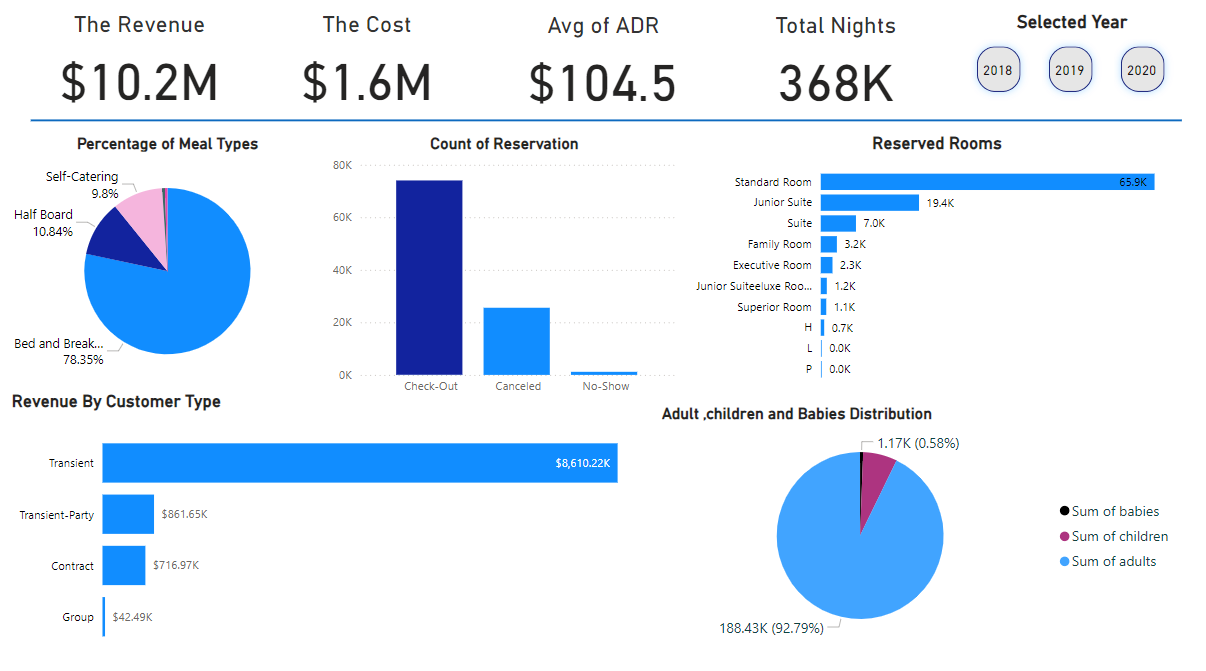

The dashboard page shown, as its layout file describes it:
{"tool":"powerbi","page":{"name":"Page 1","canvas":[1280,720],"ordinal":0},"visuals":[{"type":"card","title":"The Revenue","fields":{"Values":["Sum(Hotel.Revenue)"]},"box":[35.6,21.1,229.6,109.5],"z":0},{"type":"pieChart","title":"Percentage of Meal Types","fields":{"Category":["Hotel.meal2"],"Y":["CountNonNull(Hotel.meal2)"]},"box":[10.6,150.4,339.1,271.8],"z":1000},{"type":"barChart","title":"Revenue By Customer Type","fields":{"Category":["Hotel.customer_type"],"Y":["Sum(Hotel.Revenue)"]},"box":[10.6,422.3,711.3,287.7],"z":2000},{"type":"pieChart","title":"Adult ,children and Babies Distribution ","fields":{"Y":["Sum(Hotel.babies)","Sum(Hotel.children)","Sum(Hotel.adults)"]},"box":[696.7,435.5,554.2,260],"z":3000},{"type":"barChart","title":"Reserved Rooms","fields":{"Y":["CountNonNull(Hotel.reserved_room_type)"],"Category":["Hotel.reserved_room_type"]},"box":[721.8,150.4,541,271.8],"z":4000},{"type":"columnChart","title":"Count of Reservation","fields":{"Category":["Hotel.reservation_status"],"Series":["Hotel.is_canceled"],"Y":["CountNonNull(Hotel.is_canceled)"]},"box":[349.7,150.4,372.1,285],"z":5000},{"type":"advancedSlicerVisual","title":"Selected Year","fields":{"Values":["Hotel.arrival_date_year"]},"box":[1018.7,21.1,232.2,101.6],"z":6000},{"type":"card","title":"The Cost","fields":{"Values":["Sum(Hotel.Cost)"]},"box":[275.8,21.1,229.6,109.5],"z":7000},{"type":"card","title":"Avg of ADR","fields":{"Values":["Avg(Hotel.adr)"]},"box":[525.2,22.4,229.6,109.5],"z":8000},{"type":"card","title":"Total Nights","fields":{"Values":["Hotel.Total Nights"]},"box":[770.6,22.4,229.6,109.5],"z":9000},{"type":"shape","box":[35.6,77.9,1215.3,117.4],"z":10000}]}

Visuals, with their boxes in screenshot pixels (x1, y1, x2, y2), scaled from the page's 1280x720 canvas onto the 1206x671 screenshot:
"The Revenue" card: <box>34,20,250,122</box>
"Percentage of Meal Types" pieChart: <box>10,140,329,393</box>
"Revenue By Customer Type" barChart: <box>10,394,680,662</box>
"Adult ,children and Babies Distribution " pieChart: <box>656,406,1179,648</box>
"Reserved Rooms" barChart: <box>680,140,1190,393</box>
"Count of Reservation" columnChart: <box>329,140,680,406</box>
"Selected Year" advancedSlicerVisual: <box>960,20,1179,114</box>
"The Cost" card: <box>260,20,476,122</box>
"Avg of ADR" card: <box>495,21,711,123</box>
"Total Nights" card: <box>726,21,942,123</box>
shape: <box>34,73,1179,182</box>
